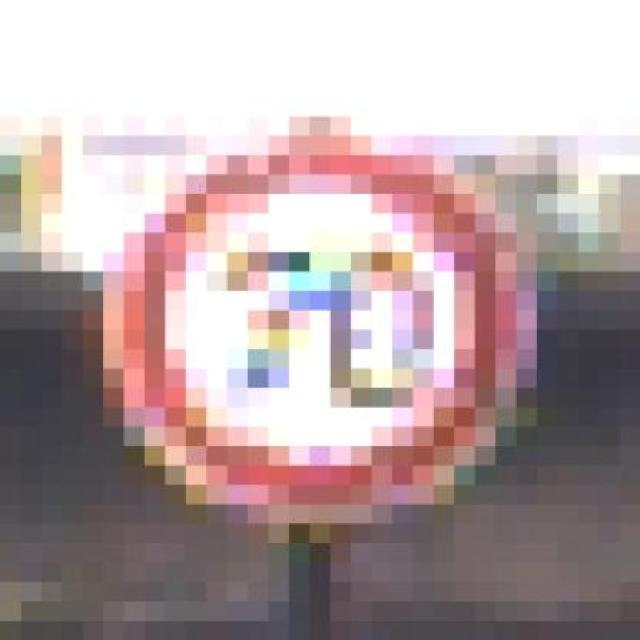forb_speed_over_70: (114, 140, 523, 520)
